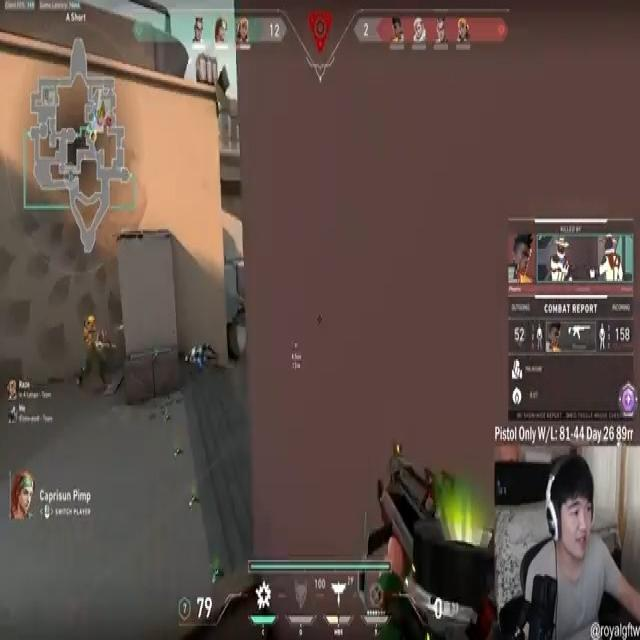ally: (76, 311, 107, 390)
